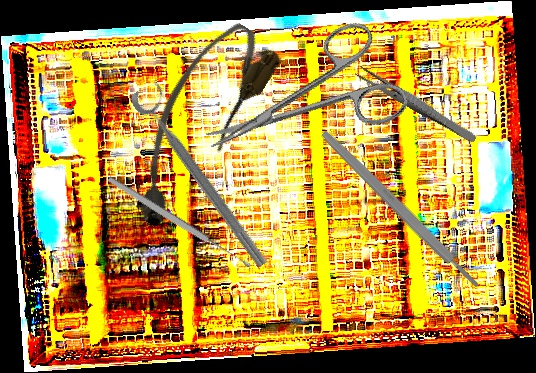Cannula: (104, 12, 287, 236)
Dressing Forceps: (353, 63, 480, 145)
Fixation Ring: (127, 77, 283, 272)
Iris Scissors: (187, 13, 412, 188)
Scalpel Handle: (319, 128, 482, 291)
Surgical Spoon: (105, 173, 254, 272)
